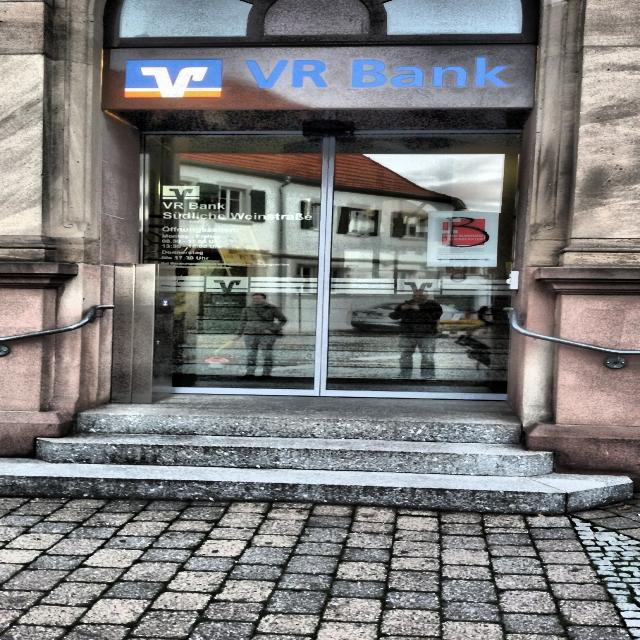escada: (1, 407, 638, 515)
